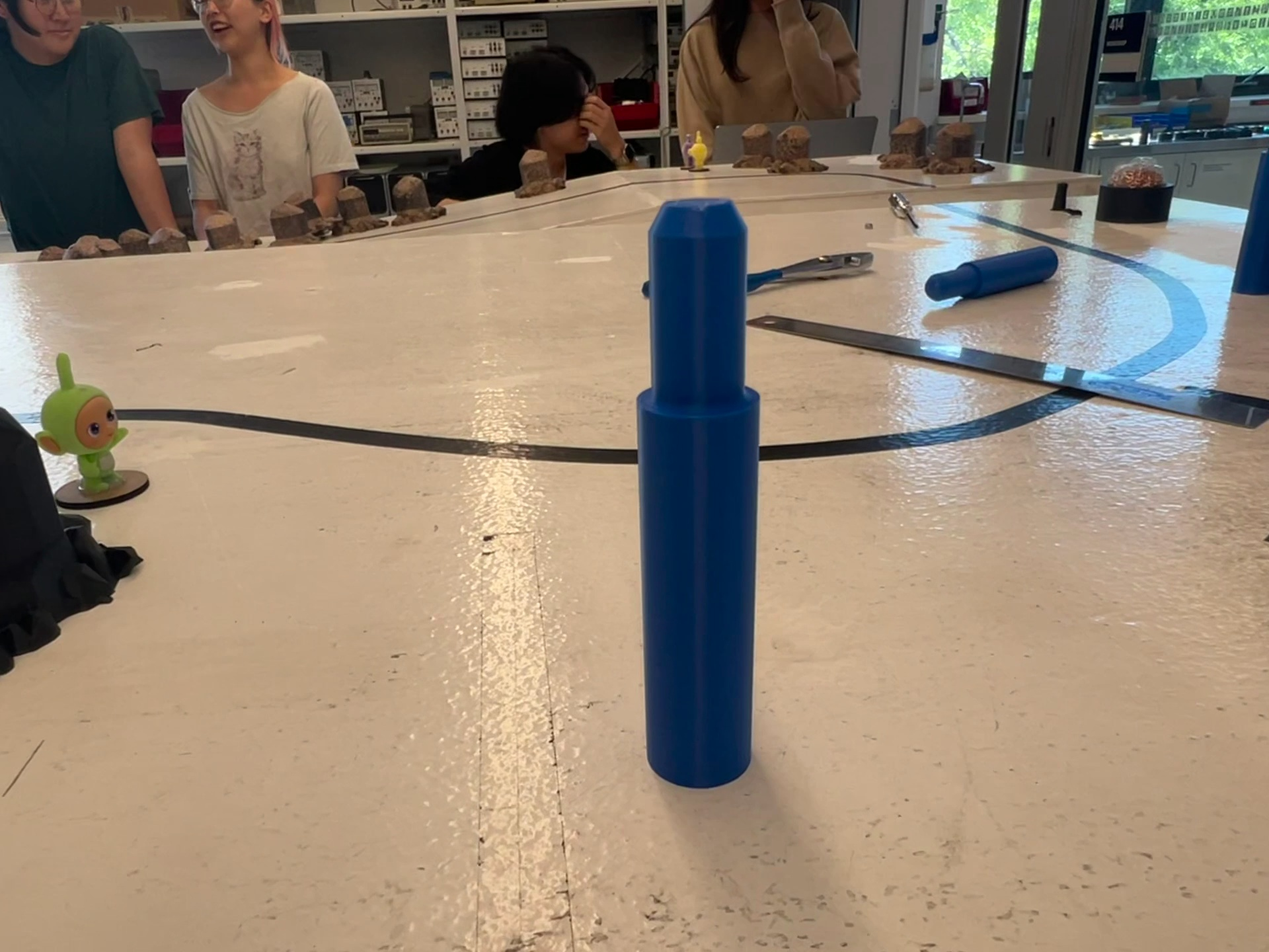teletubby: (36, 353, 128, 493)
